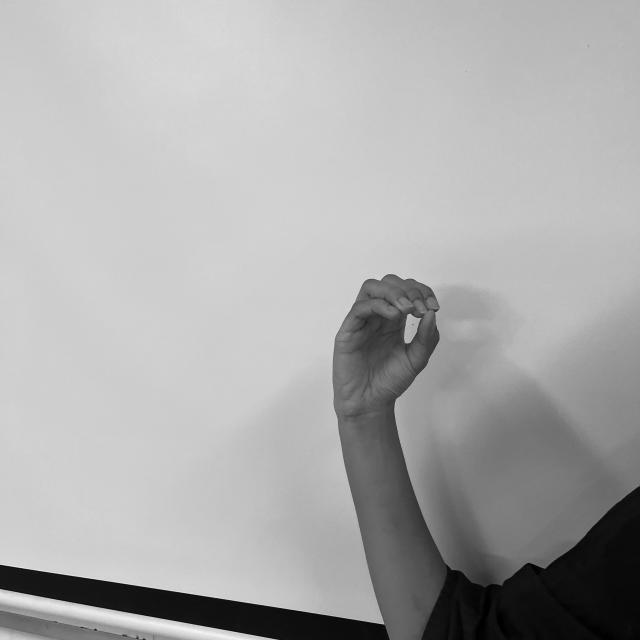Letra O: (329, 270, 445, 415)
